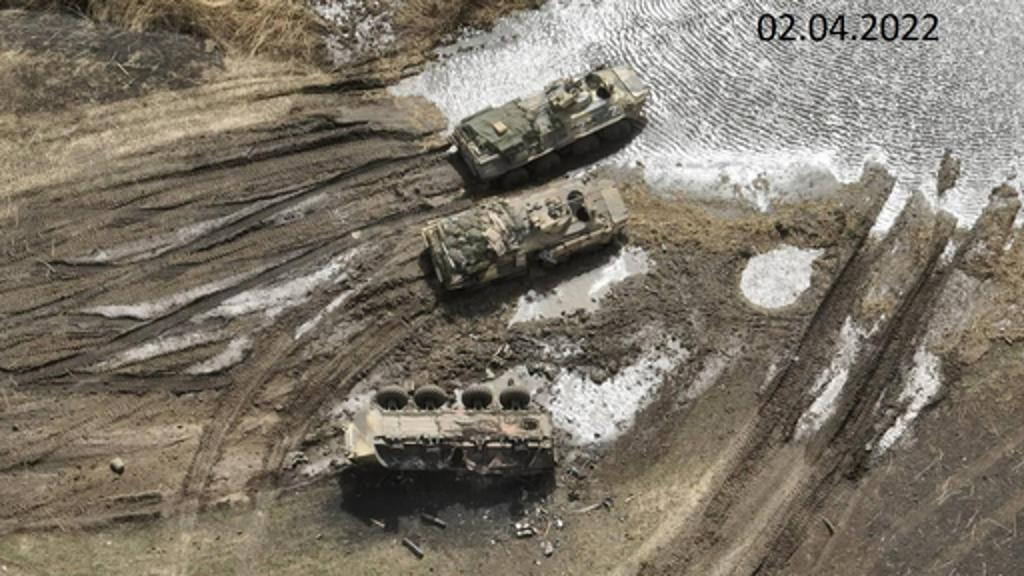APC-IFV: (324, 372, 566, 500), (440, 62, 656, 188), (420, 174, 636, 296)
